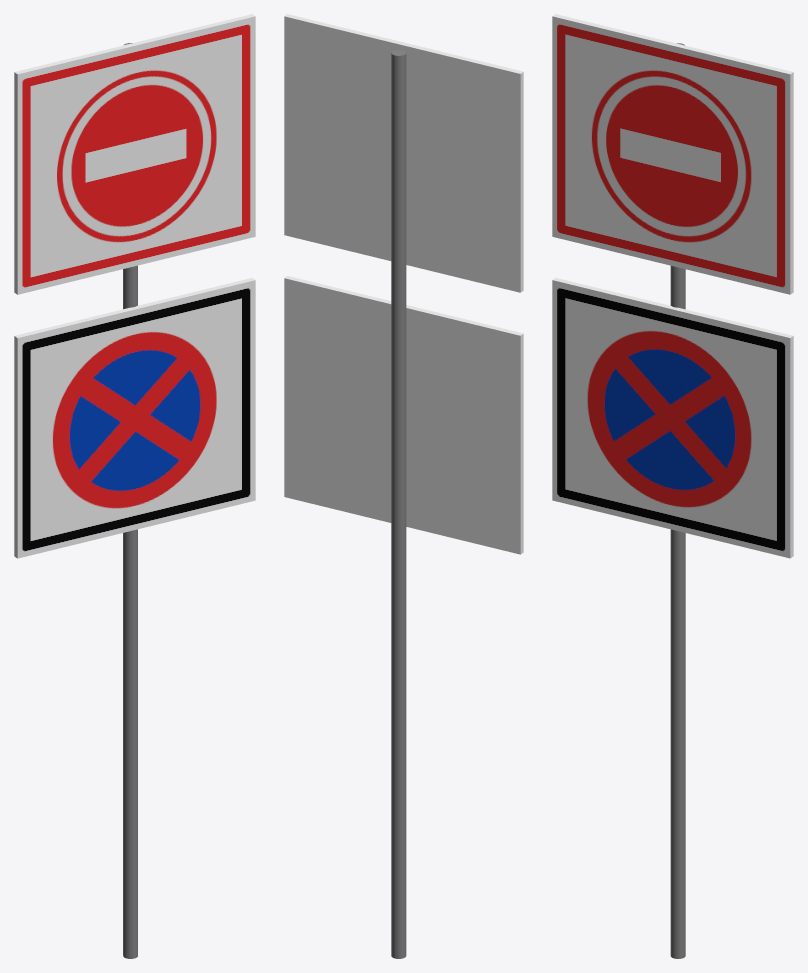
The model's file is Traffic Sign_2_1obj.fbx.
The picture shows the model from 3 angles, left to right: view 1: azimuth 30°, elevation 25°; view 2: azimuth 150°, elevation 25°; view 3: azimuth 330°, elevation 25°; orthographic projection.
Visible parts, largest first — view 1: Cylinder; view 2: Cylinder; view 3: Cylinder.
Boxes of the visible parts, x1,y1,x2,y2 form: Cylinder: (14, 14, 255, 958); Cylinder: (284, 14, 523, 958); Cylinder: (552, 14, 793, 958).
Bounding box in the file's own units: 187 × 686 × 13.77.
